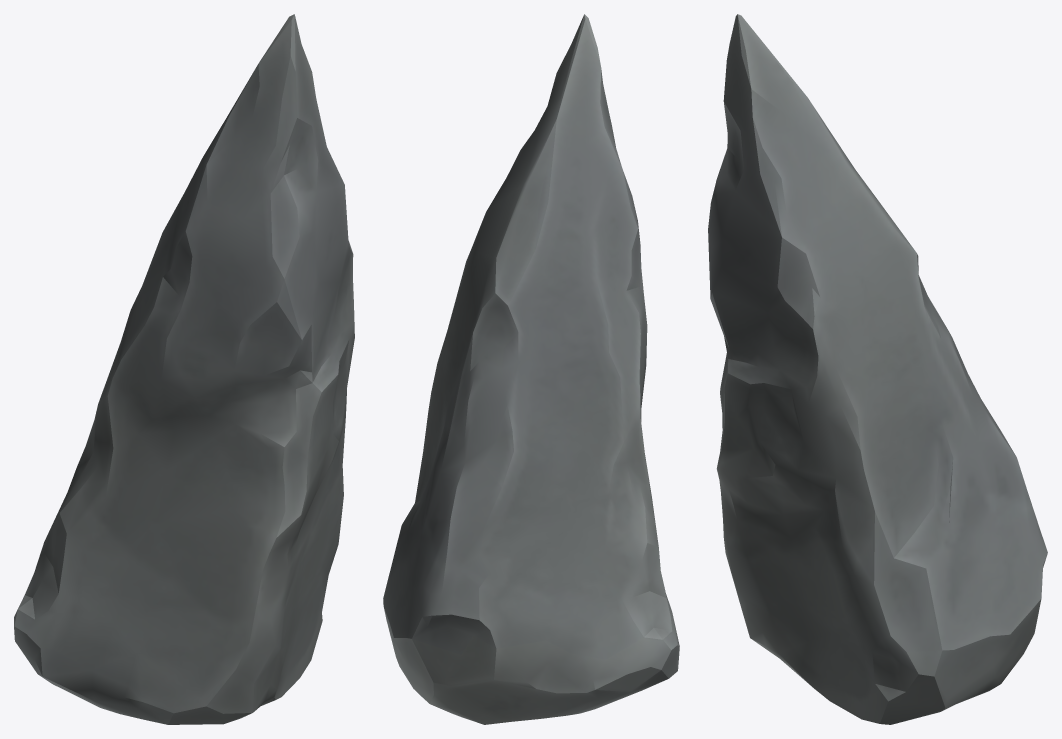
File: GrayRockType2.fbx
The picture shows the model from 3 angles, left to right: view 1: azimuth 30°, elevation 25°; view 2: azimuth 150°, elevation 25°; view 3: azimuth 270°, elevation 25°; orthographic projection. The views are drawn at different scales.
Visible parts, largest first — view 1: Rock_Sharp1 (3); view 2: Rock_Sharp1 (3); view 3: Rock_Sharp1 (3).
Boxes of the visible parts, x1=… form: Rock_Sharp1 (3): x1=14, y1=14, x2=354, y2=724; Rock_Sharp1 (3): x1=383, y1=14, x2=679, y2=724; Rock_Sharp1 (3): x1=708, y1=14, x2=1047, y2=724.
Size of the model in its own units: 11.12 by 24.92 by 11.16.
